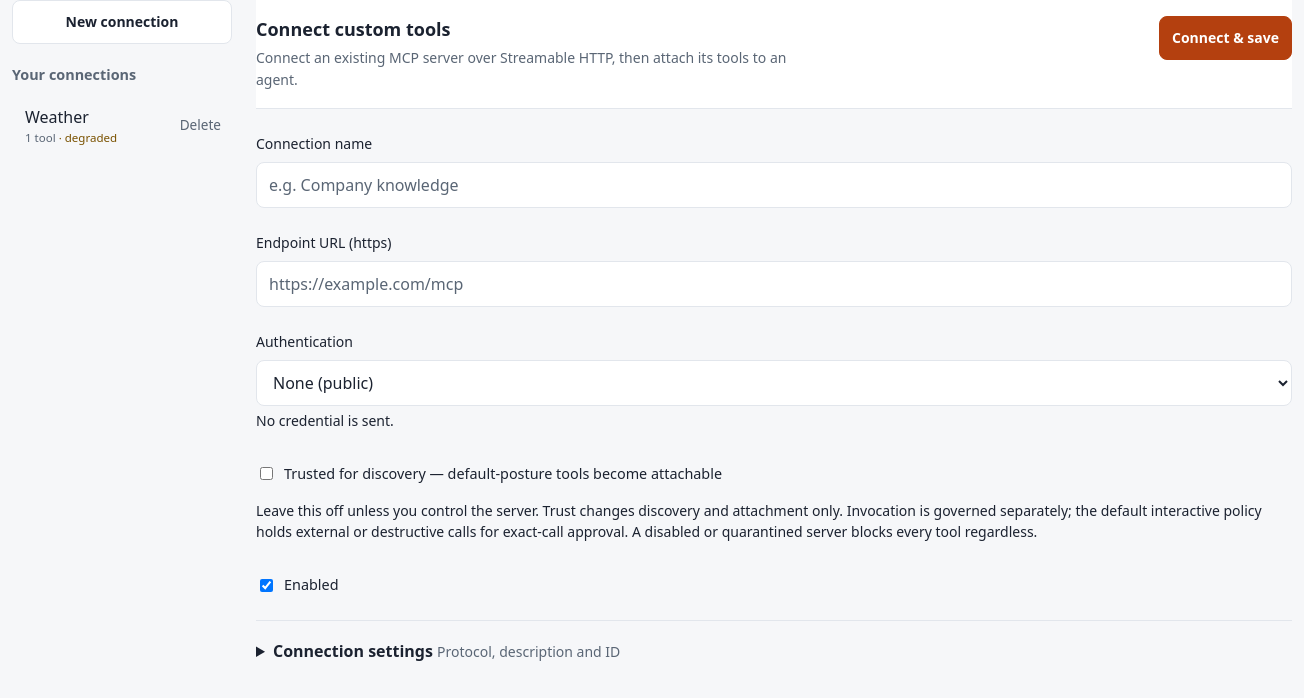
Scenario: McpServerBuilder › never overwrites connection edits through testing, approval changes or cancelled navigation
The image size is (1304, 698).
Click the button "Weather 1 tool · degraded" at (93, 125), box [15,97,172,154]
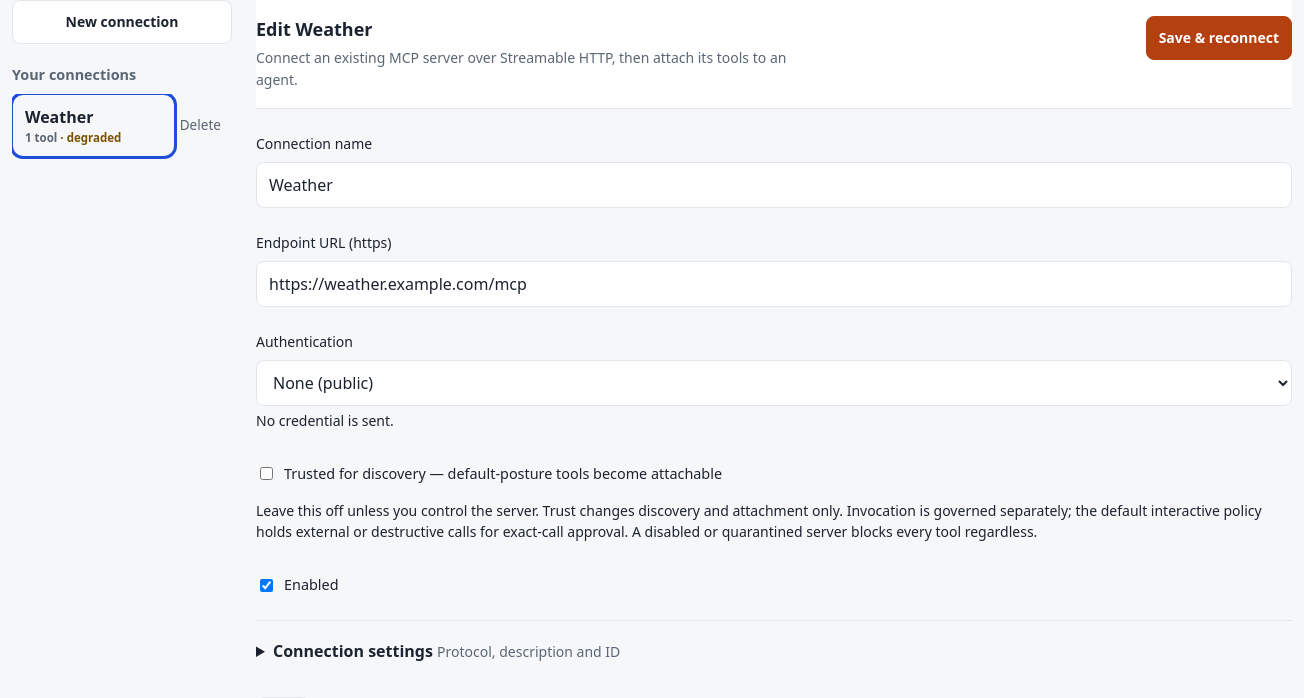
Type " edited" into the field labelled "Connection name" at (774, 185), box [256,162,1292,208]
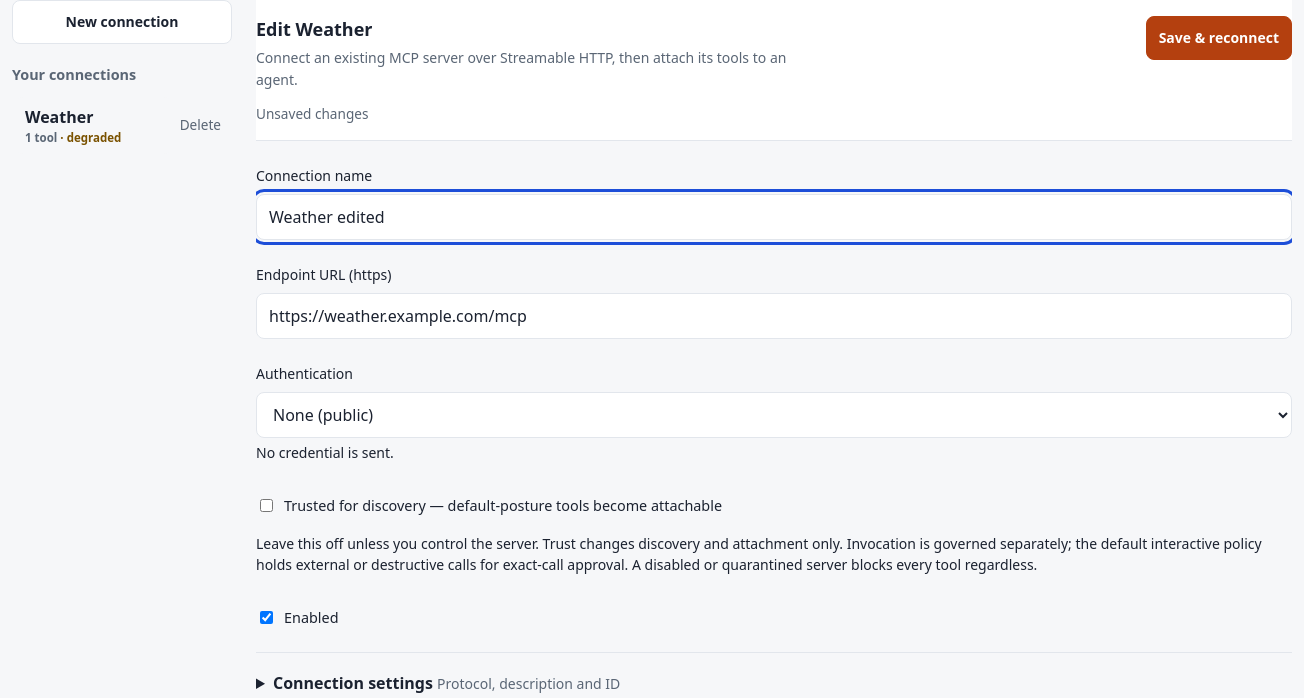
Click the button "New connection" at (122, 22), box [12,0,232,44]
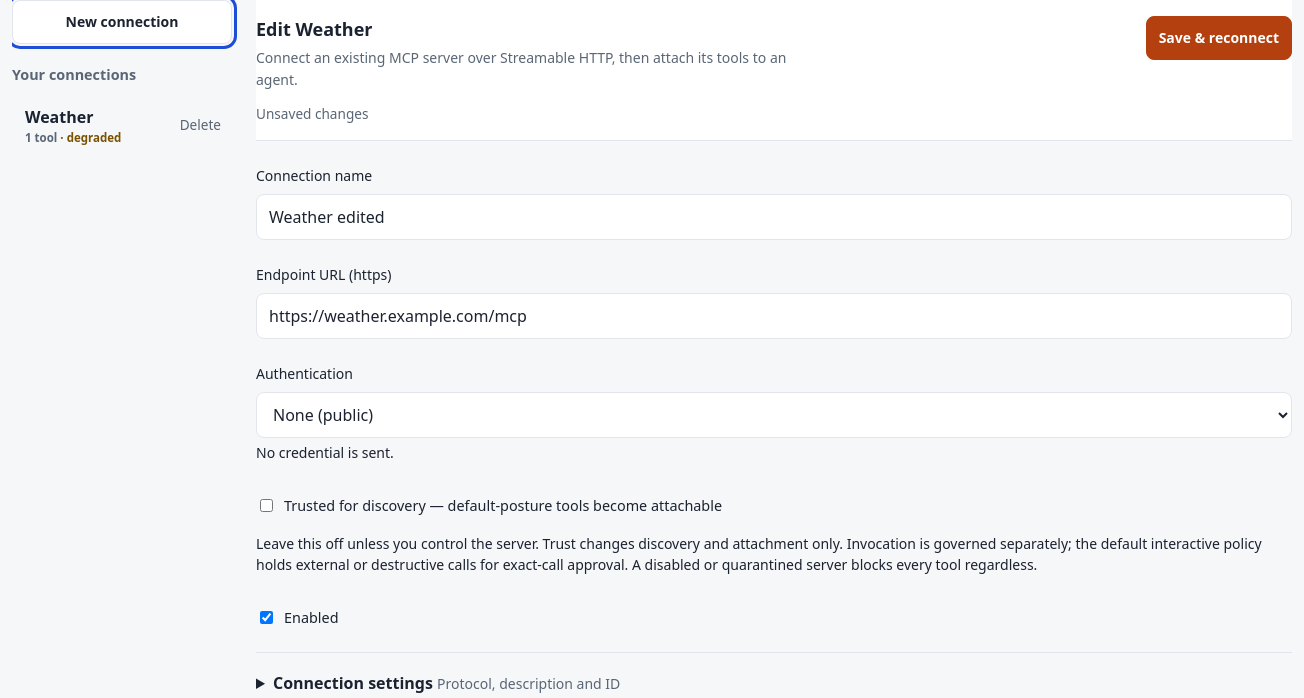
Now the field labelled "Connection name" holds "Weather edited", box [256,194,1292,240]
Click the button "Save & reconnect" at (1219, 38), box [1146,16,1292,60]
(page scrolled)
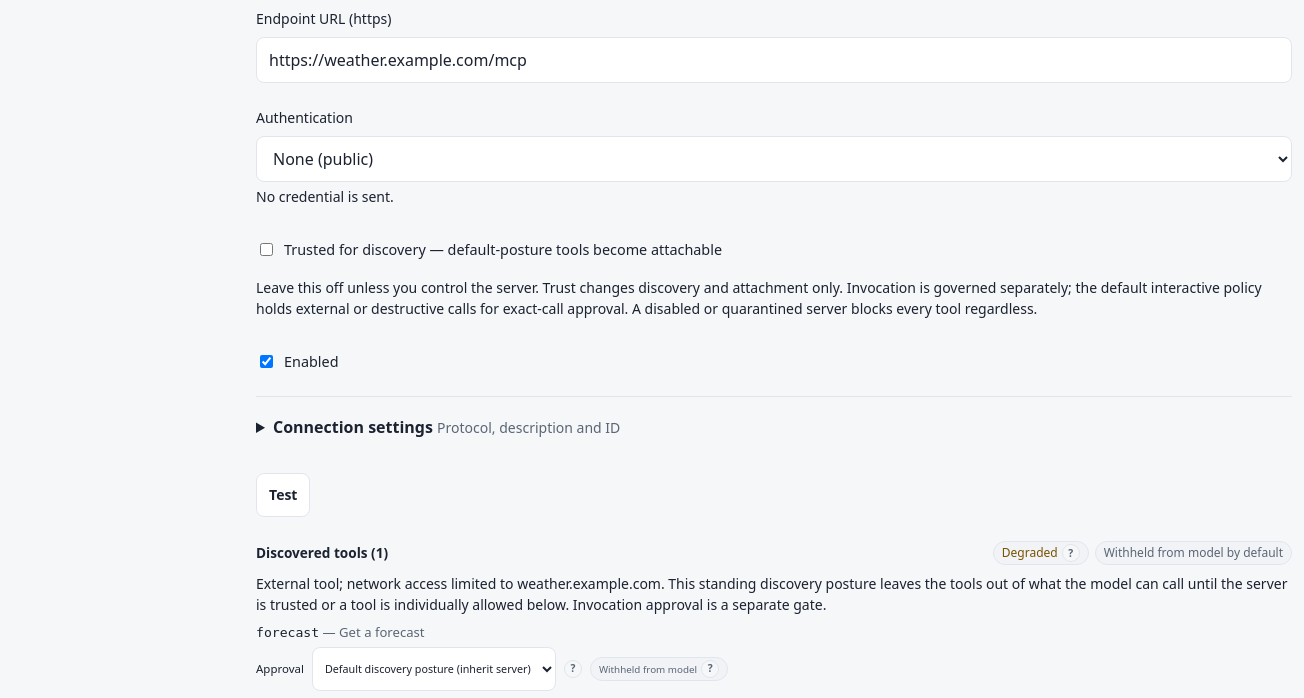
Now the button "Test" is enabled, box [256,473,310,517]
